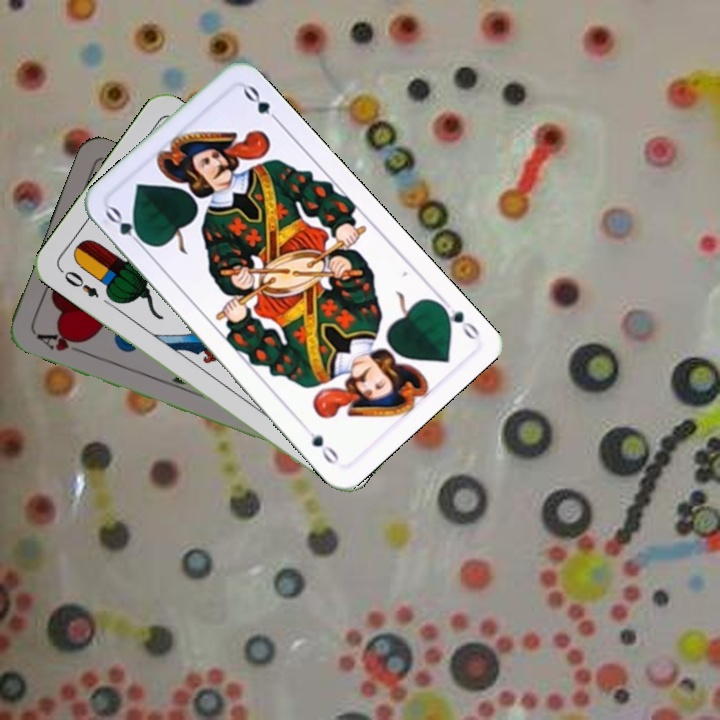EO: (56, 265, 102, 301)
GO: (101, 202, 152, 252), (432, 293, 482, 343)
HA: (32, 327, 89, 357)
